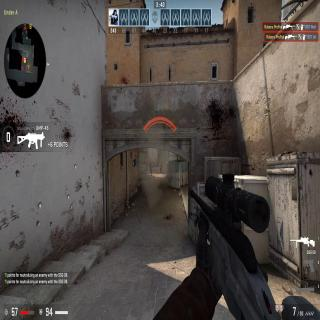CT-Body: (150, 162, 152, 176), (160, 161, 162, 172)
CT-Head: (160, 160, 162, 162), (150, 162, 151, 164)
